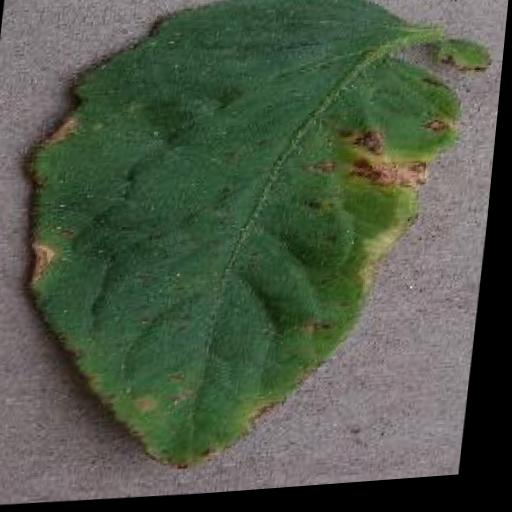Bacterial Spot: (0, 0, 512, 499)
